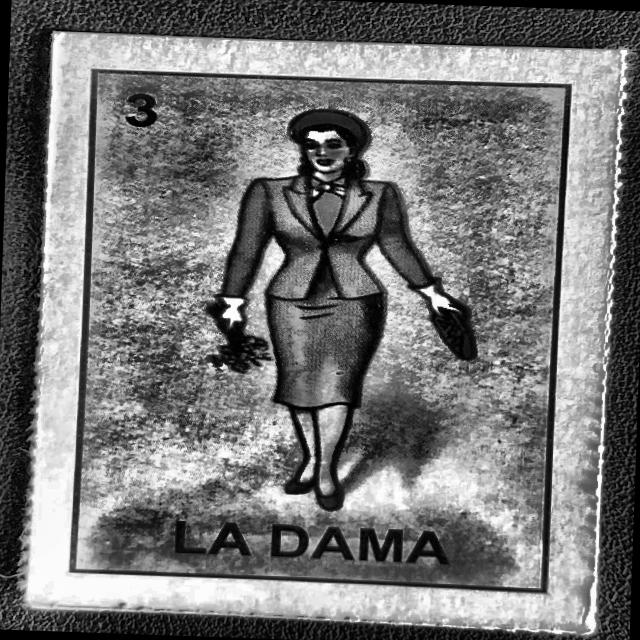La Dama: (47, 42, 595, 614)
